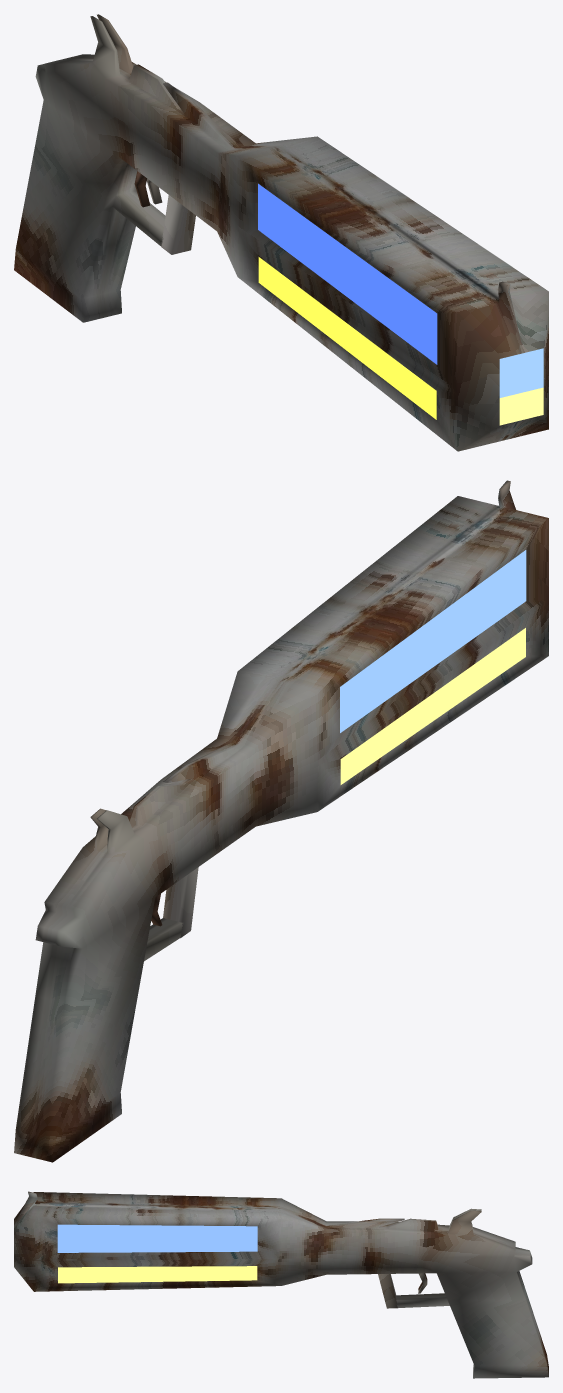
Rendered from horn_gun.glb.
3 views of the same model, one above another, from view 1: azimuth 30°, elevation 25°; view 2: azimuth 150°, elevation 25°; view 3: azimuth 270°, elevation 25° (orthographic). The views are drawn at different scales.
Parts seen in each view (by area): view 1: Cube, glow1, glow2; view 2: Cube, glow1, glow2; view 3: Cube, glow1, glow2.
Part boxes in pixels (left/top/right/bottom): Cube: left=14, top=14, right=548, bottom=451; glow1: left=258, top=183, right=543, bottom=397; glow2: left=258, top=257, right=543, bottom=425; Cube: left=14, top=480, right=548, bottom=1162; glow1: left=340, top=550, right=526, bottom=732; glow2: left=340, top=628, right=525, bottom=784; Cube: left=14, top=1191, right=548, bottom=1378; glow1: left=57, top=1224, right=257, bottom=1252; glow2: left=58, top=1266, right=257, bottom=1283.
Bounding box in the file's own units: 1.04 × 3.61 × 9.66.
Materials: 3 (1 with a texture image).
